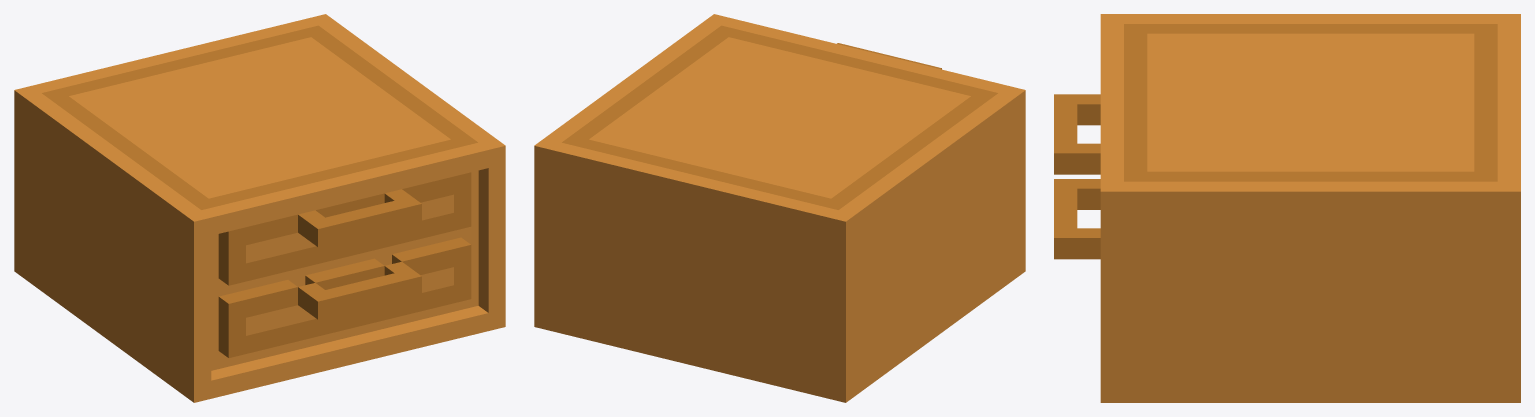
Rendered from obj_drawer.obj.
3 views of the same model, side by side, from view 1: azimuth 30°, elevation 25°; view 2: azimuth 150°, elevation 25°; view 3: azimuth 270°, elevation 25° (orthographic). The views are drawn at different scales.
Parts seen in each view (by area): view 1: obj_drawer; view 2: obj_drawer; view 3: obj_drawer.
Boxes of the visible parts, x1,y1,x2,y2 form: obj_drawer: [14, 14, 505, 402]; obj_drawer: [534, 14, 1025, 402]; obj_drawer: [1054, 14, 1520, 402].
Size of the model in its own units: 18 by 10 by 20.
Materials: 1 (1 with a texture image).
